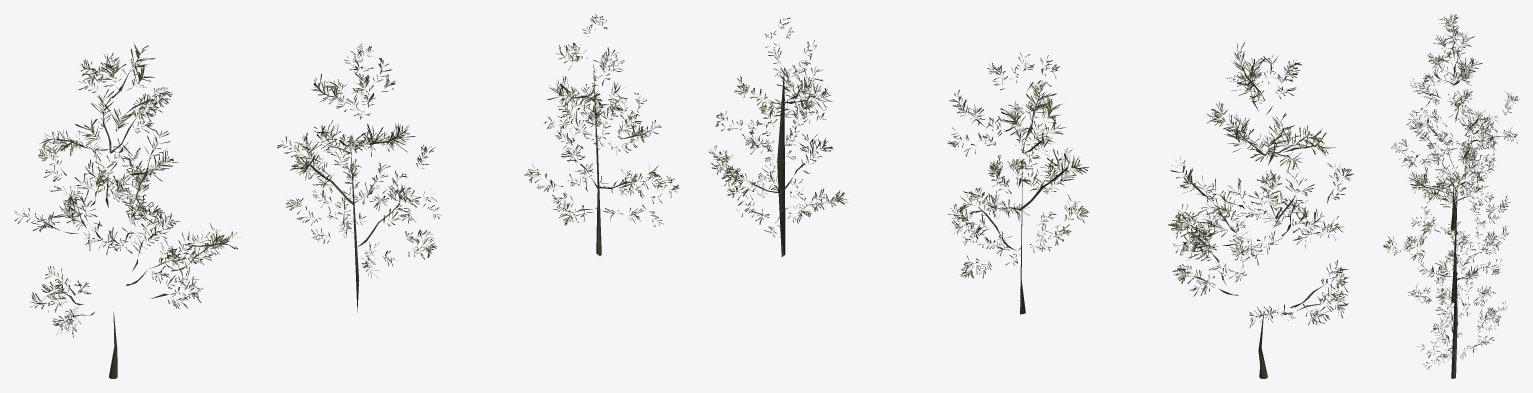
The model's file is pine-light.glb.
3 renders of one model, left to right at view 1: azimuth 30°, elevation 25°; view 2: azimuth 150°, elevation 25°; view 3: azimuth 270°, elevation 25°, orthographic. The views are drawn at different scales.
Parts seen in each view (by area): view 1: pine_sapling_small_b; view 2: pine_sapling_small_b; view 3: pine_sapling_small_b.
Part boxes in pixels (<box>): pine_sapling_small_b: <box>14,14,679,378</box>; pine_sapling_small_b: <box>708,17,1353,378</box>; pine_sapling_small_b: <box>1383,14,1518,378</box>.
Size of the model in its own units: 2.63 by 1.29 by 0.7632.
Materials: 2 (2 with a texture image).
